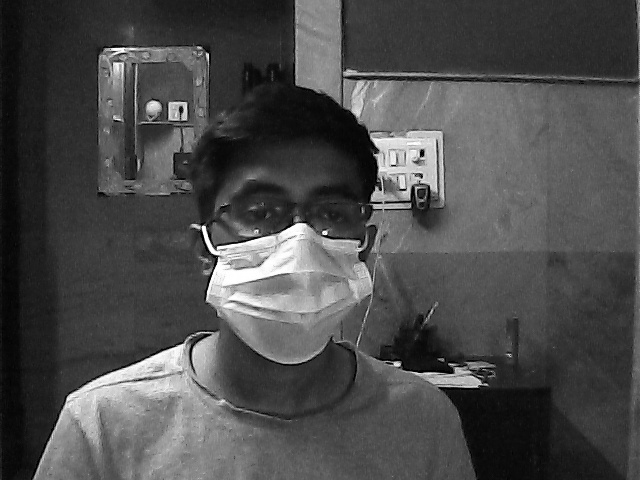mask: (203, 156, 376, 374)
